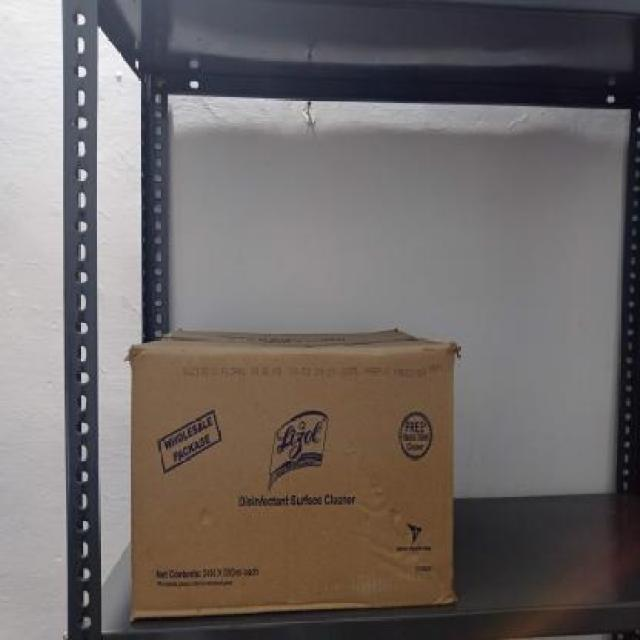box: (132, 348, 458, 606)
